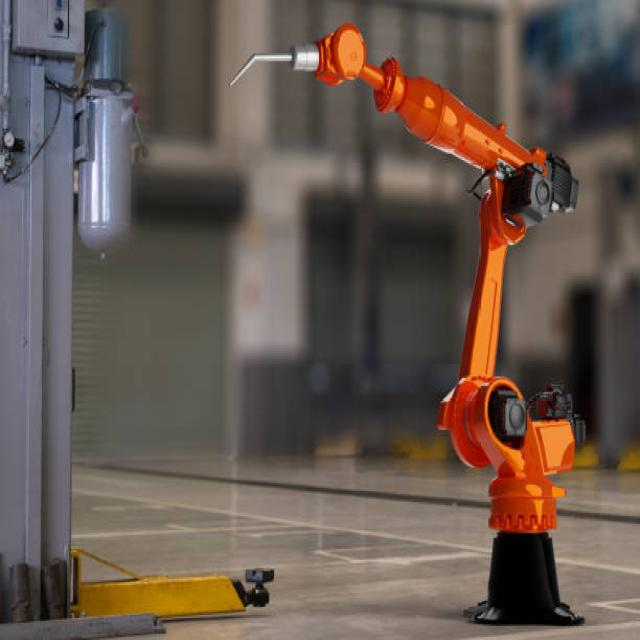Robotic-arm: (229, 19, 591, 631)
